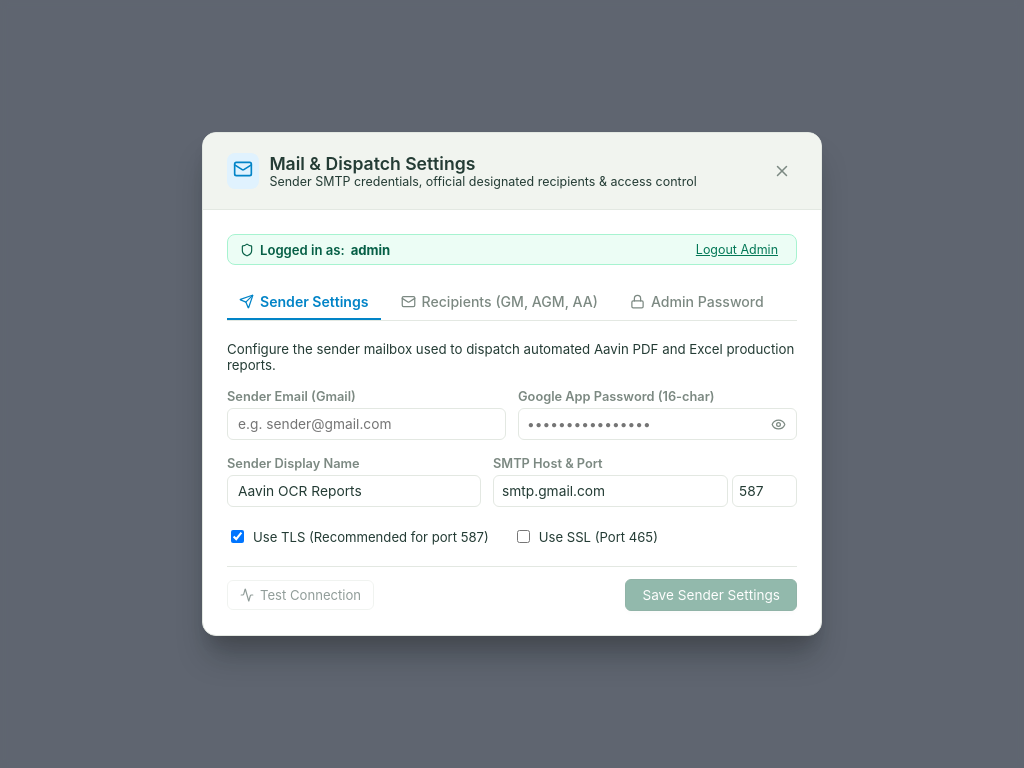
MailSettingsModal › allows managing sender settings and testing connection
// Update email and app password
Type "new_sender@gmail.com" into the field with test id "sender-email-input". click: (366, 424)
box: x1=227 y1=408 x2=506 y2=440
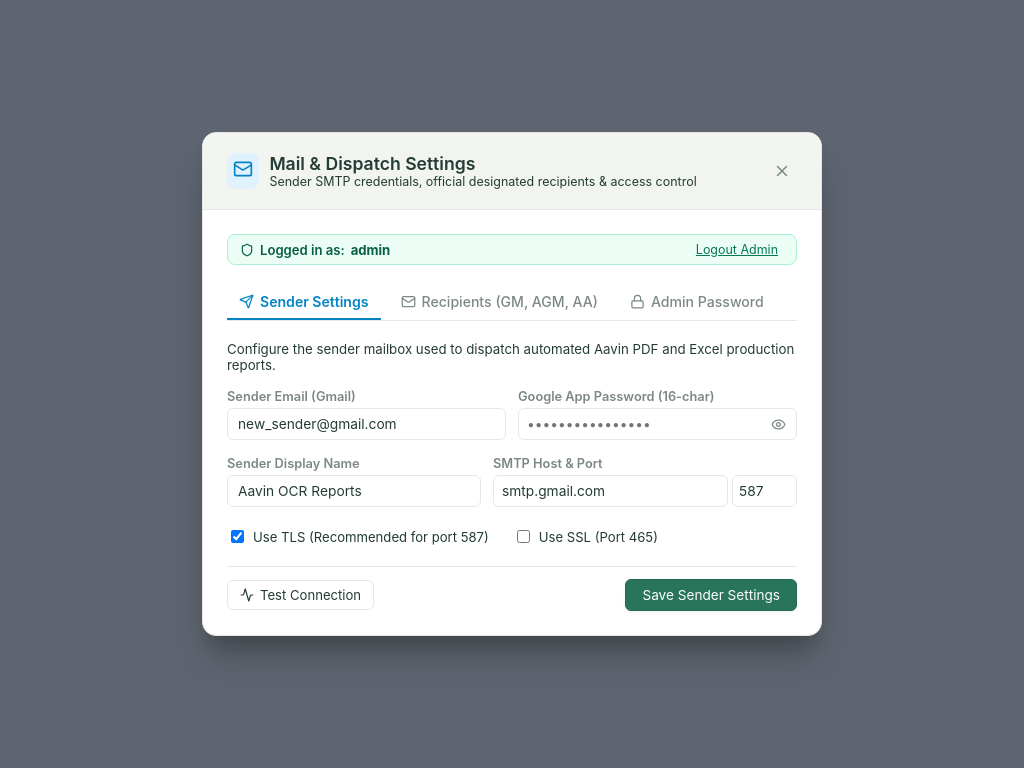
Type "abcd1234efgh5678" into the password field with test id "sender-app-password-input". click: (648, 424)
box: x1=527 y1=409 x2=769 y2=439
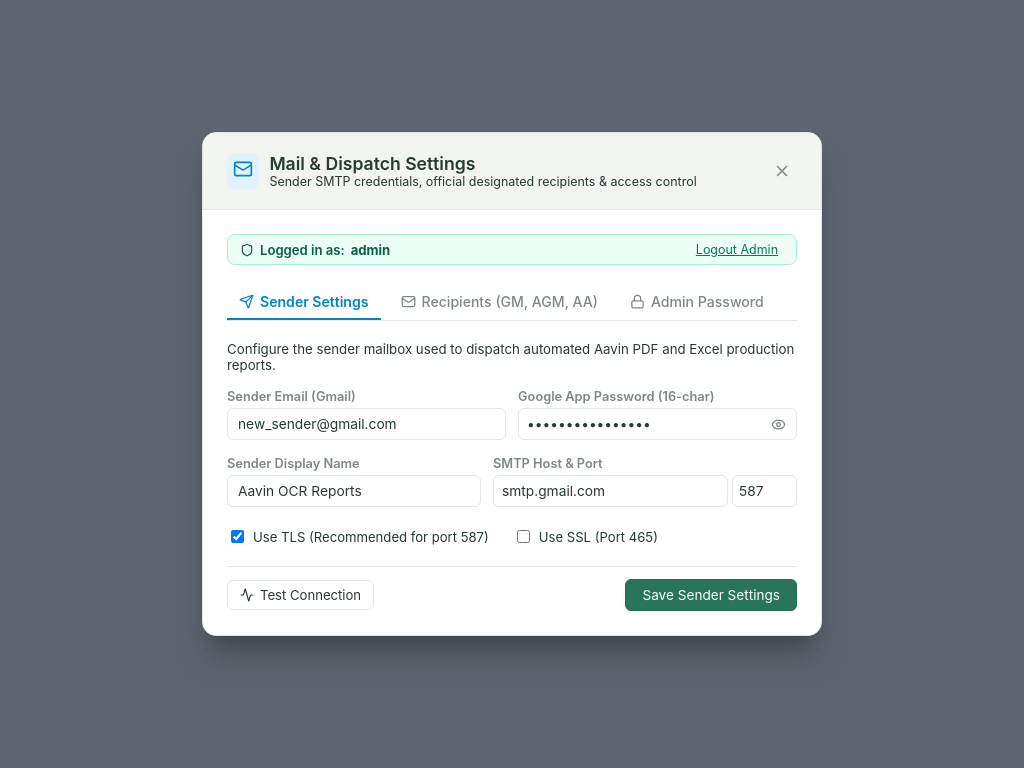
// Click Test Connection
Click the button with test id "test-connection-btn". click: (301, 595)
box: x1=227 y1=580 x2=374 y2=610
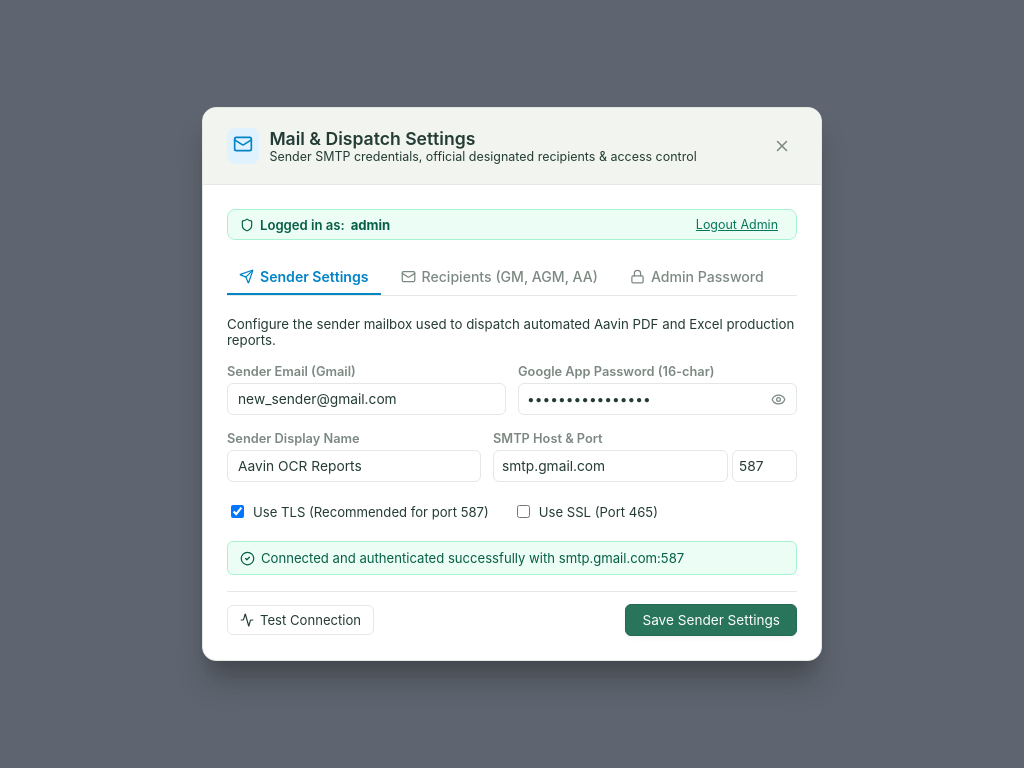
Now the text "Connected and authenticated successfully" is shown, box x1=261 y1=550 x2=684 y2=566
// Click Save Sender Settings
Click the button with test id "save-sender-btn". click: (711, 620)
box: x1=626 y1=604 x2=797 y2=636
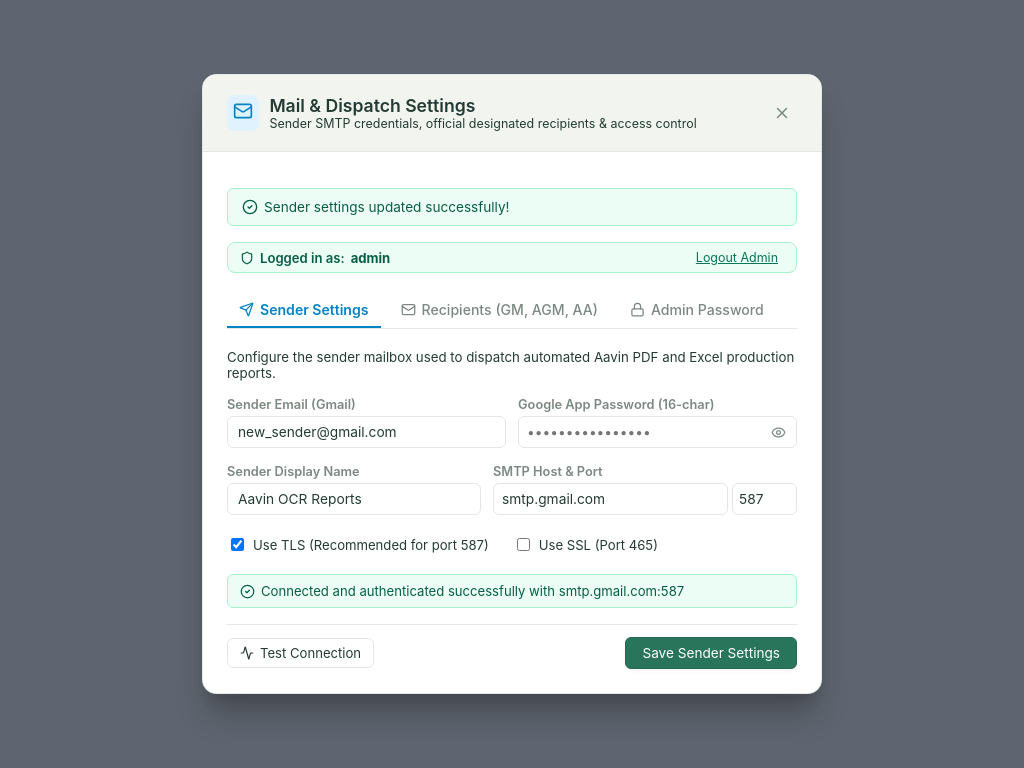
Now the text "Sender settings updated successfully!" is shown, box x1=264 y1=199 x2=510 y2=215
